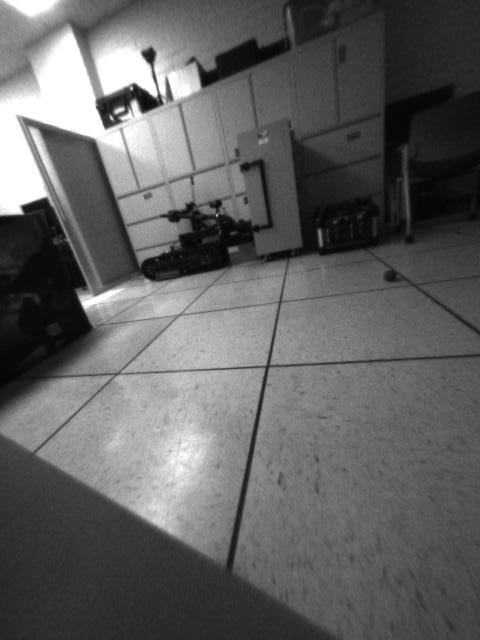dogtoy: (379, 259, 406, 288)
